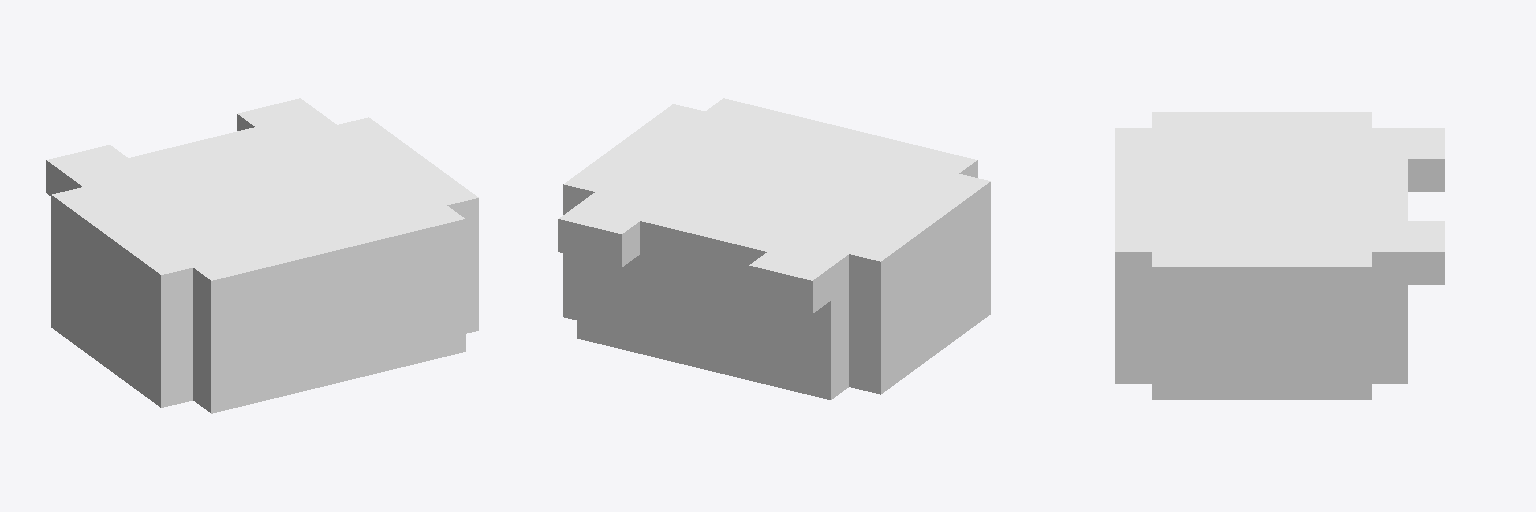
Rendered from BigHouse-0.obj.
3 renders of one model, left to right at view 1: azimuth 30°, elevation 25°; view 2: azimuth 150°, elevation 25°; view 3: azimuth 270°, elevation 25°, orthographic.
Visible parts, largest first — view 1: object 1; view 2: object 1; view 3: object 1.
Boxes of the visible parts, x1=… form: object 1: x1=46, y1=98, x2=478, y2=413; object 1: x1=558, y1=98, x2=990, y2=399; object 1: x1=1115, y1=112, x2=1444, y2=399.
Size of the model in its own units: 2 by 0.8 by 1.8.